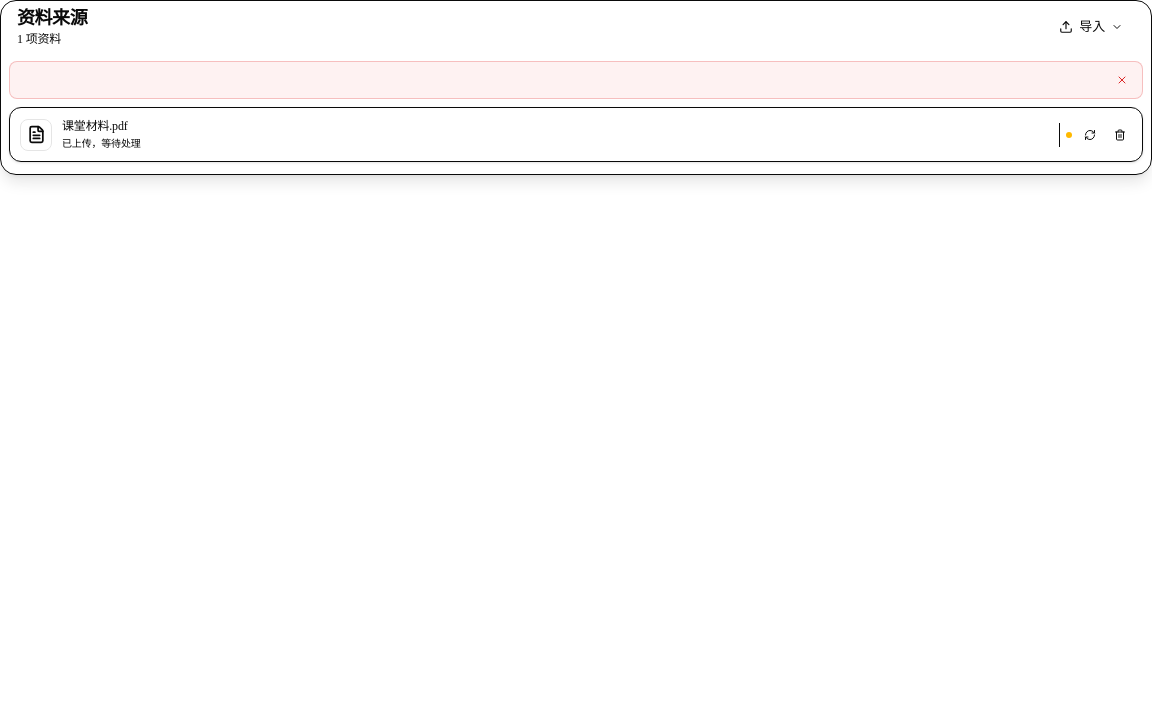
it: keeps the confirmation open when deletion fails
Click the button named "删除 课堂材料.pdf" at [1120, 134], box [1108,122,1132,146]
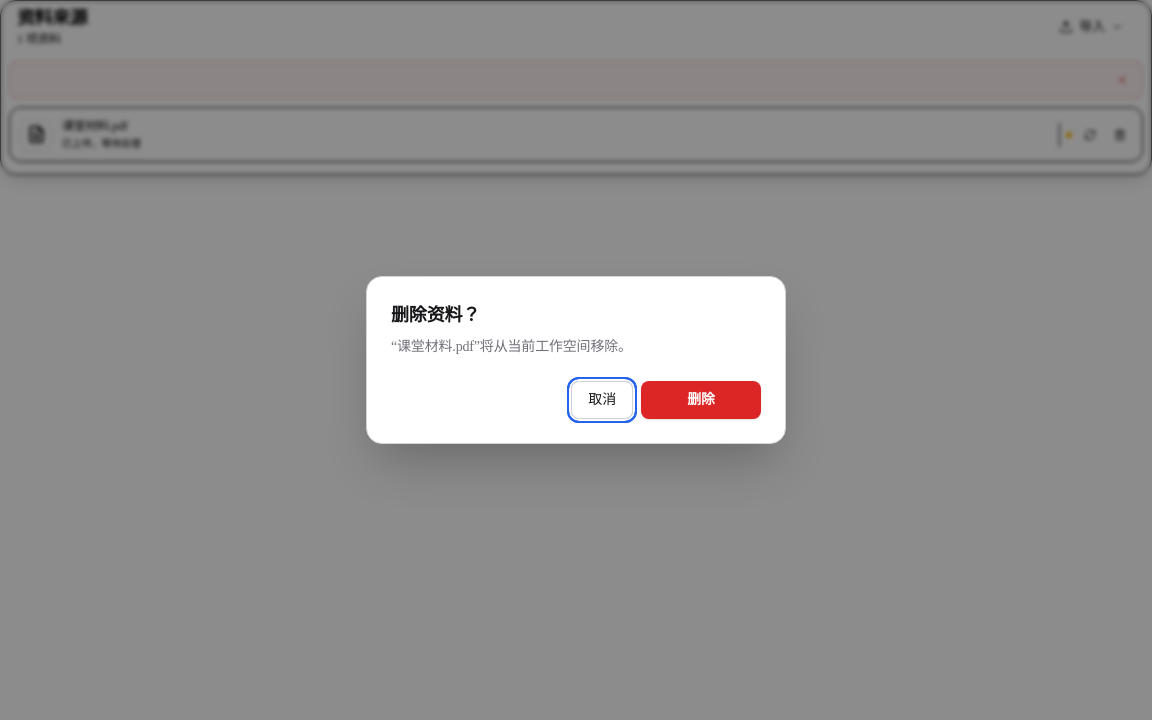
Click the button "删除" at [701, 400], box [641,381,761,419]
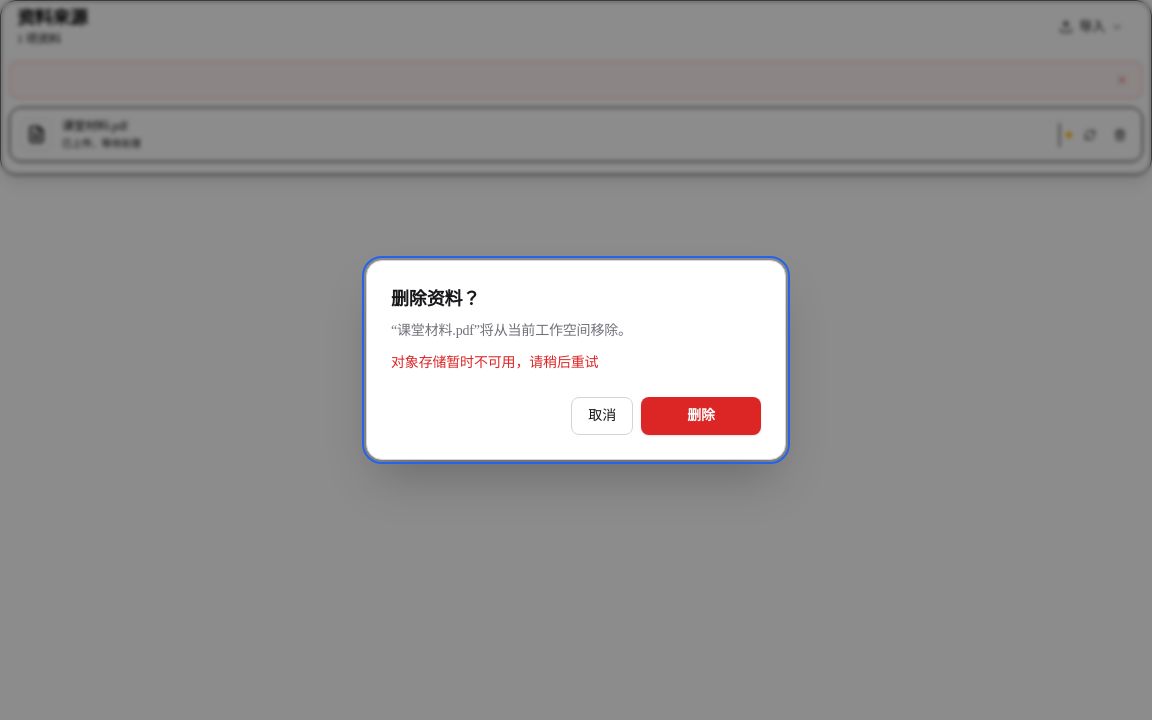
Expected: the text "课堂材料.pdf" is shown, [62,119,128,133]
Expected: the message shows "对象存储暂时不可用", [391,355,598,370]
